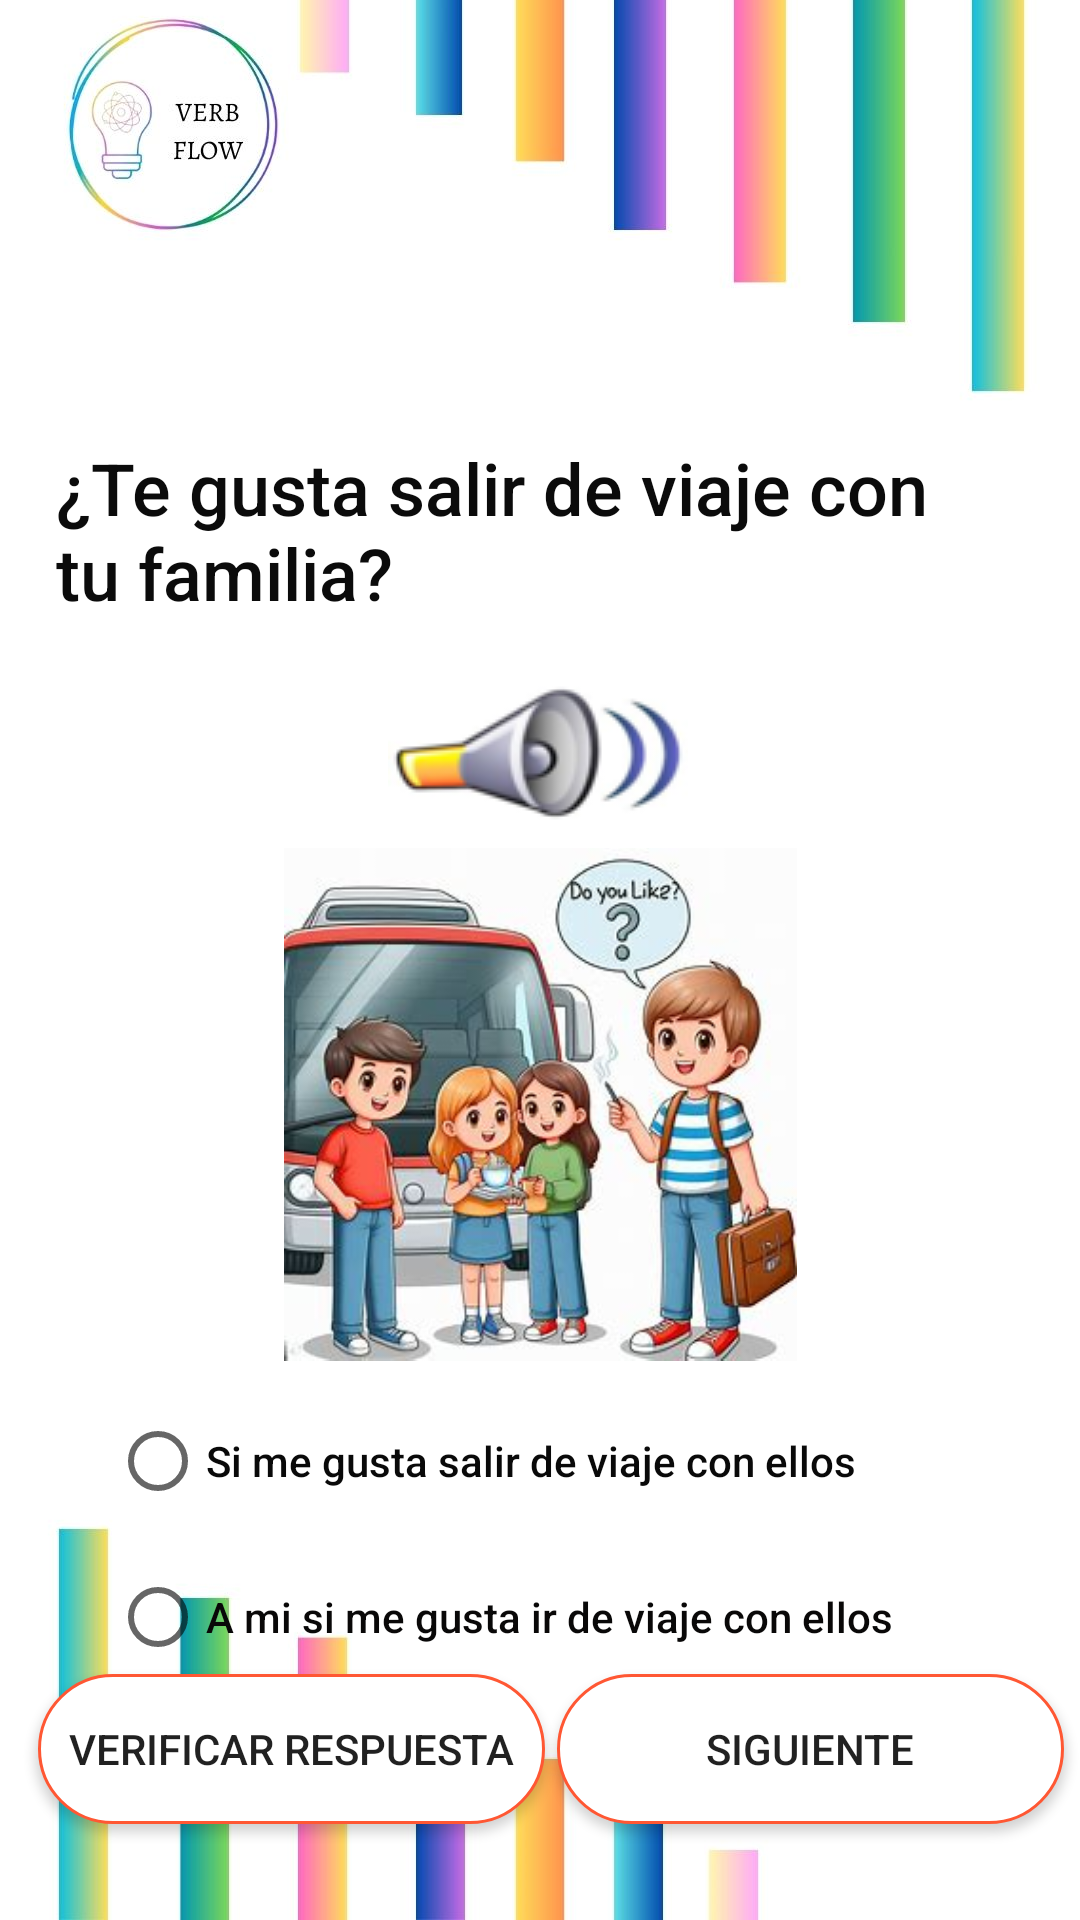

Icon bounding boxes for this 1080px x 1920px phone screenshot, format detection(x1, y1, x2, y2):
altavoz: detection(395, 689, 680, 817)
